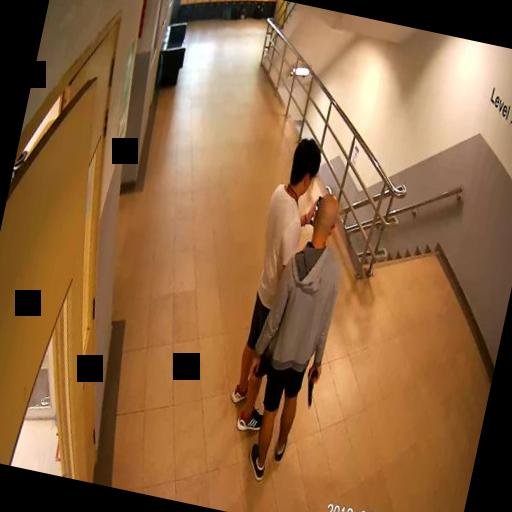Handgun: (300, 365, 320, 405)
